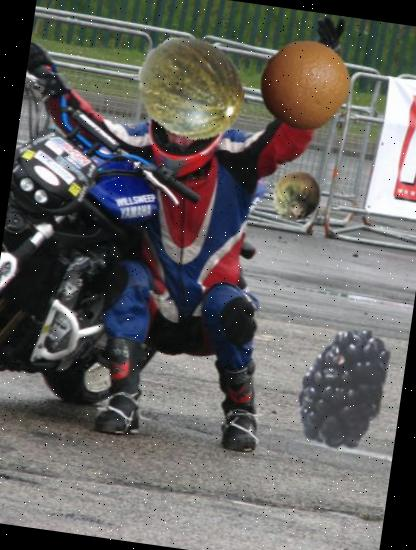Cactus: (268, 167, 326, 225)
Melon: (130, 27, 252, 149)
Mulberry: (253, 314, 408, 469)
Orange: (252, 32, 356, 136)
